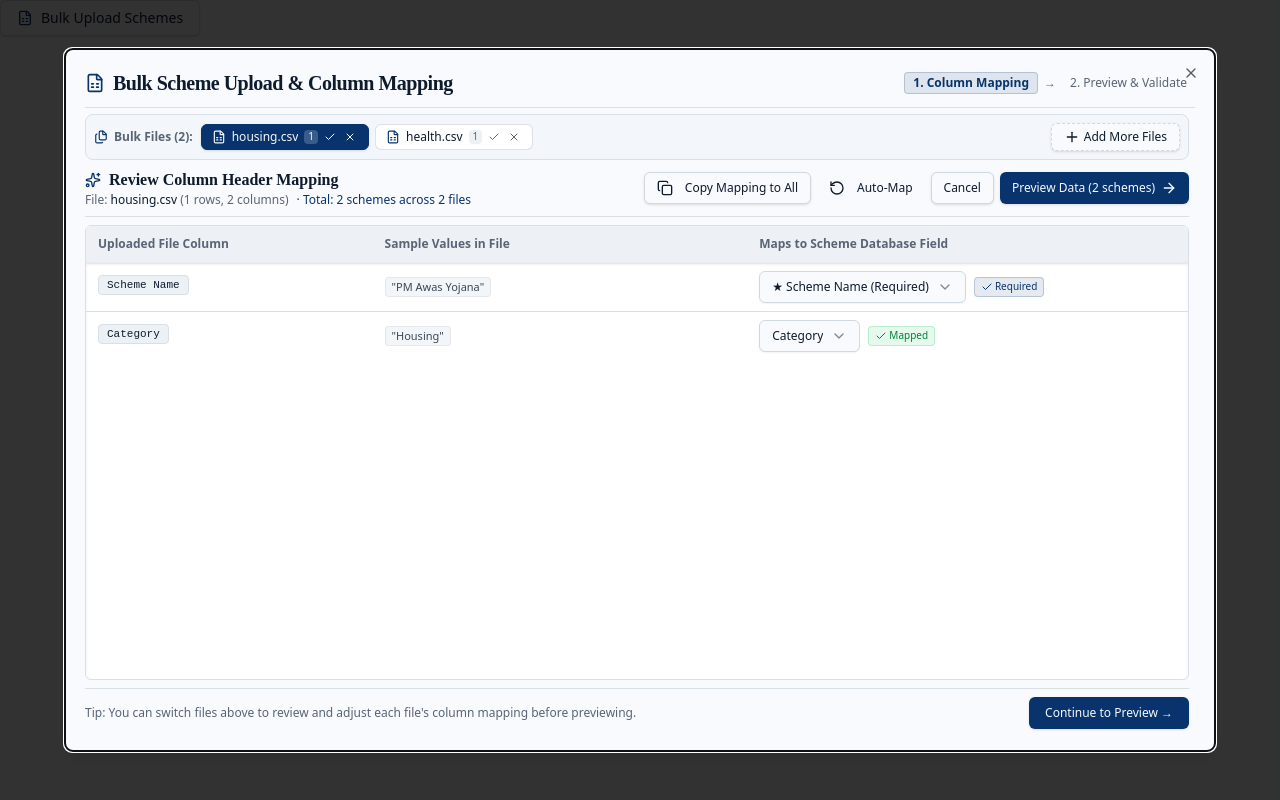
Multiple Bulk Data Upload Tests › combines schemes from multiple files in preview, shows source file badges, and filters by file
Earlier steps of the test are not shown.
Click the button "Preview Data (2 schemes)" at (1094, 188), box [1000, 172, 1189, 204]
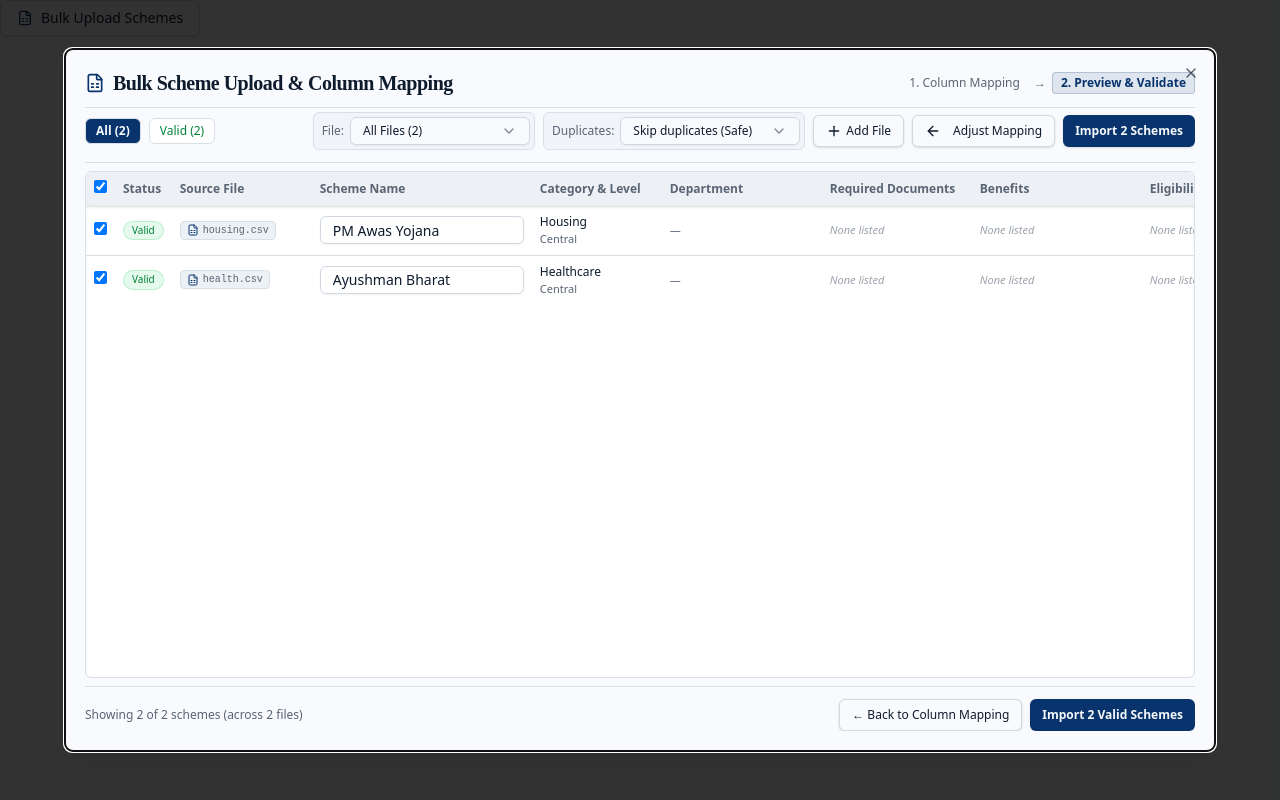
Expected: the text "Showing 2 of 2 schemes (across 2 files)" is shown, [85, 707, 303, 723]
Expected: the text "housing.csv" is shown, [203, 224, 269, 237]
Expected: the text "health.csv" is shown, [203, 273, 263, 286]
